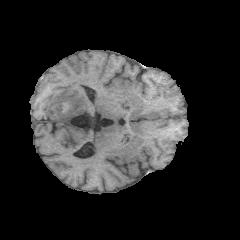glioma: (41, 78, 91, 120)
